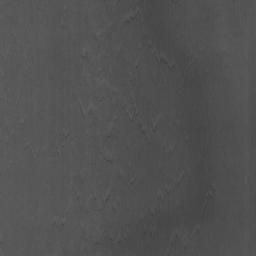Silk spot: (200, 192, 213, 221), (124, 11, 141, 24), (156, 58, 168, 64)
